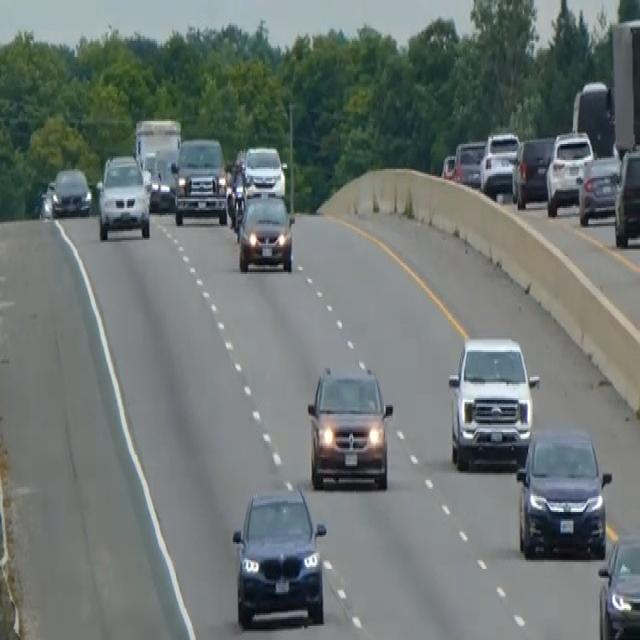car: (230, 482, 327, 629), (514, 423, 611, 560), (95, 151, 150, 240), (237, 190, 295, 274), (597, 530, 639, 638), (545, 128, 594, 215), (577, 153, 621, 226), (511, 135, 554, 208), (479, 130, 520, 196), (613, 144, 639, 247), (242, 142, 286, 198), (50, 165, 91, 217), (147, 144, 178, 212), (452, 137, 486, 187), (38, 178, 57, 218), (440, 151, 456, 180)
jeep: (446, 333, 540, 471), (170, 133, 228, 226)
minivan: (304, 359, 394, 493)
motorcycle: (225, 160, 248, 238)
